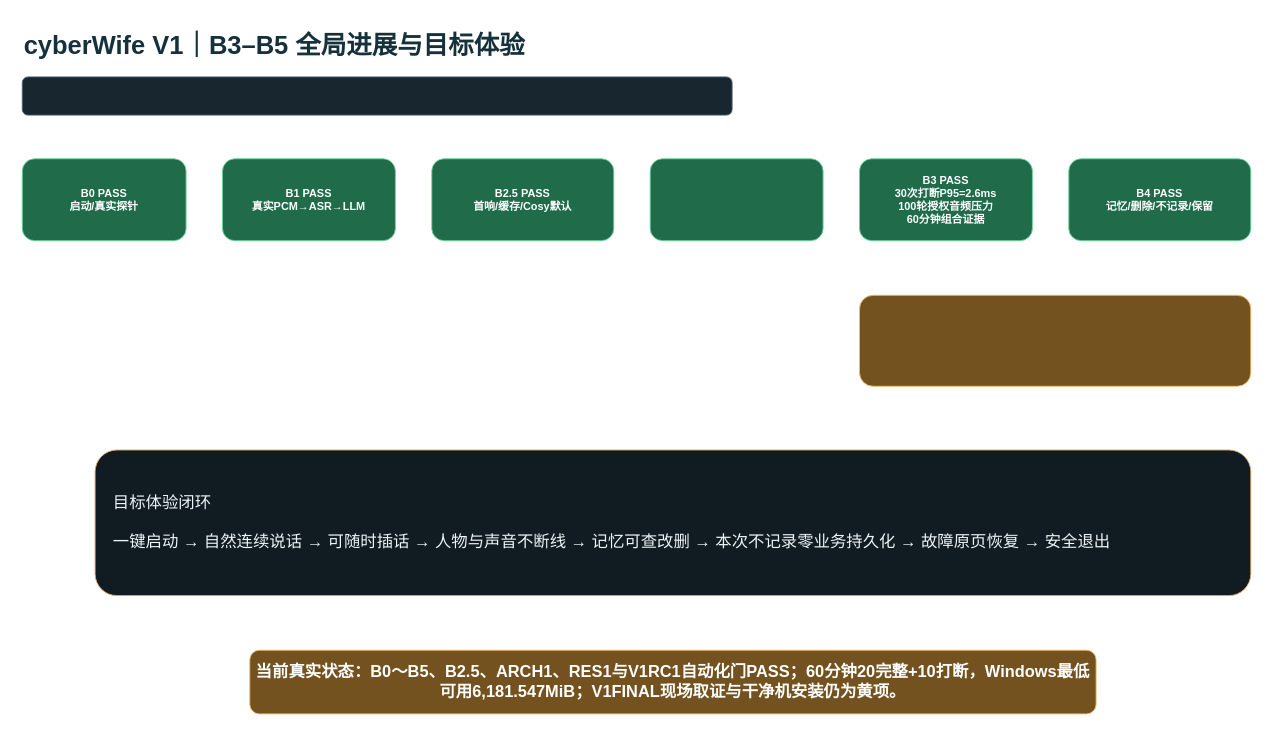
This 1267x730 diagram has some shape labels left out. The centre of each missing label's shape, as x and y in pixels:
"B2 PASS H.264 Avatar恢复" belongs at (736,199).
"V1RC1 自动化门全绿｜人工/外部门 普通链P95 4.708秒；打断P95 1.9ms；60分钟资源通过 UX6主观/真读屏/结构化麦克风/干净机待签" belongs at (1055,340).
"绿色=已验收 黄色=需修改 蓝色=待新增 红色=阻断风险 灰色=外部/历史" belongs at (376,95).
